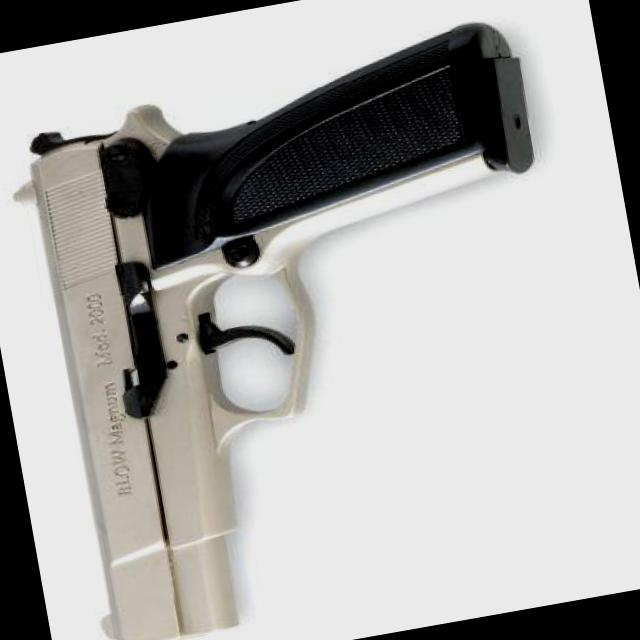handgun: (0, 14, 613, 639)
